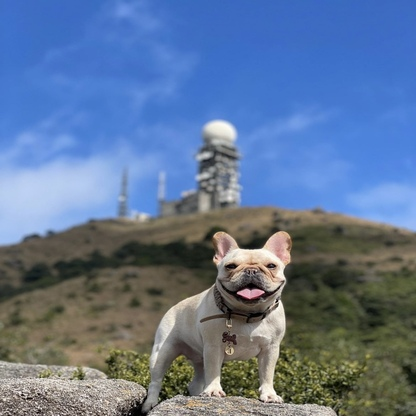bulldog: (138, 227, 295, 416)
